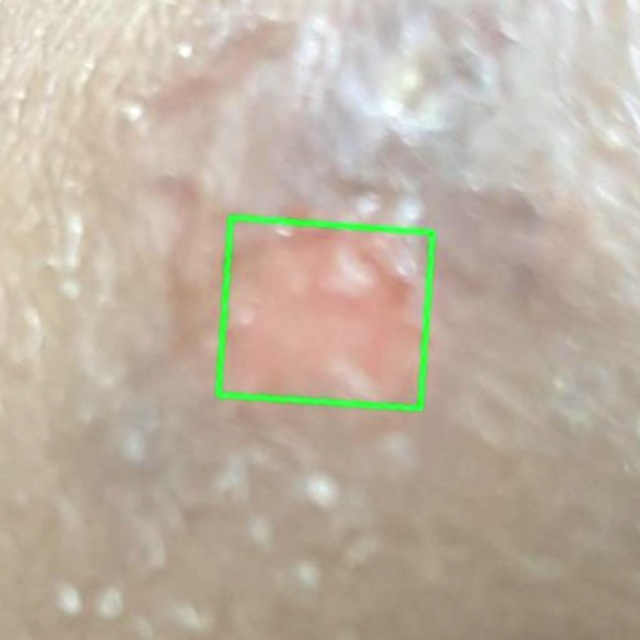Eczema: (218, 218, 433, 409)
